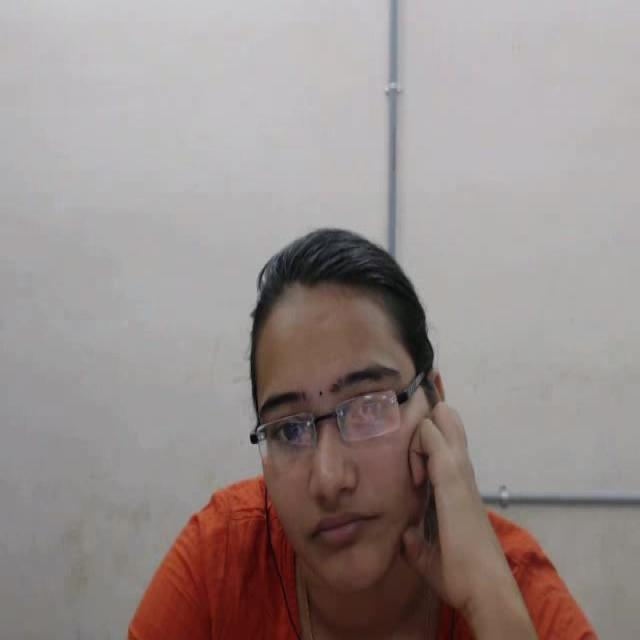Bored: (232, 224, 490, 603)
